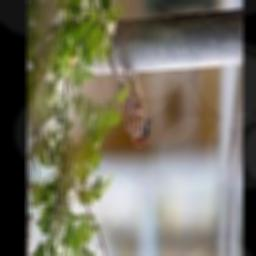Sparrow: (107, 58, 150, 148)
